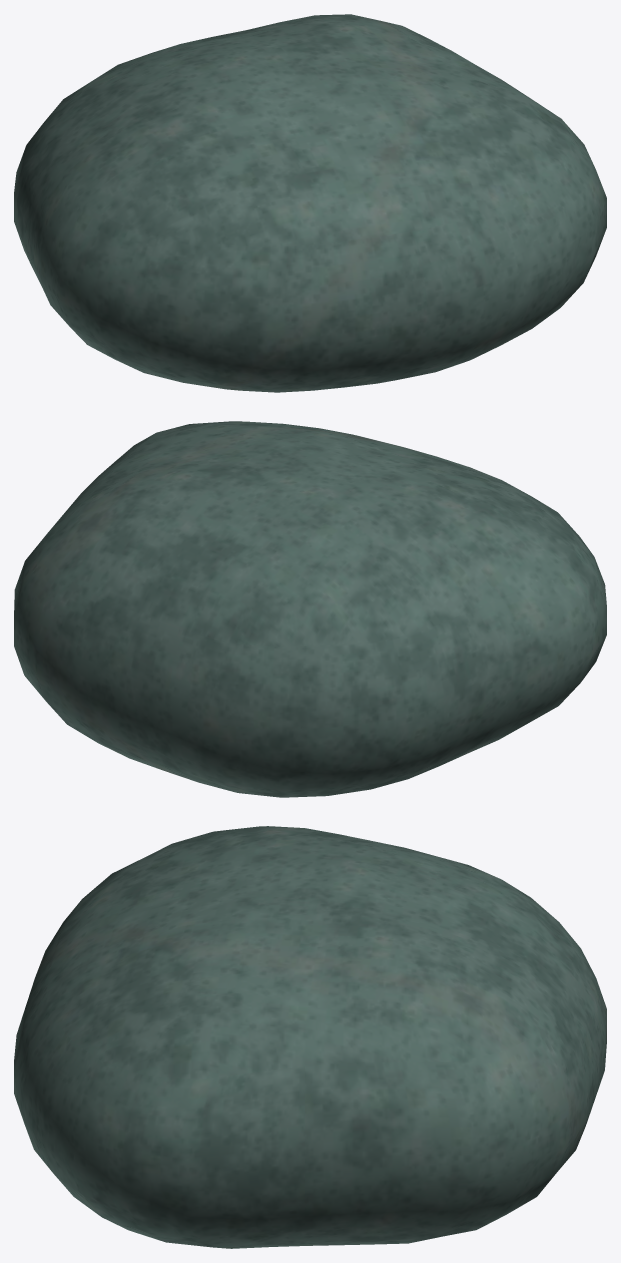
Rendered from chunky_cobble_03.glb.
The picture shows the model from 3 angles, top to bottom: view 1: azimuth 30°, elevation 25°; view 2: azimuth 150°, elevation 25°; view 3: azimuth 270°, elevation 25°; orthographic projection. The views are drawn at different scales.
Parts seen in each view (by area): view 1: chunky_cobble_03; view 2: chunky_cobble_03; view 3: chunky_cobble_03.
Boxes of the visible parts, left/top/right/bottom form: chunky_cobble_03: left=14, top=14, right=606, bottom=392; chunky_cobble_03: left=14, top=421, right=606, bottom=797; chunky_cobble_03: left=14, top=826, right=606, bottom=1248.
Size of the model in its own units: 0.0581 by 0.0311 by 0.0531.
1 material, 1 textured.
